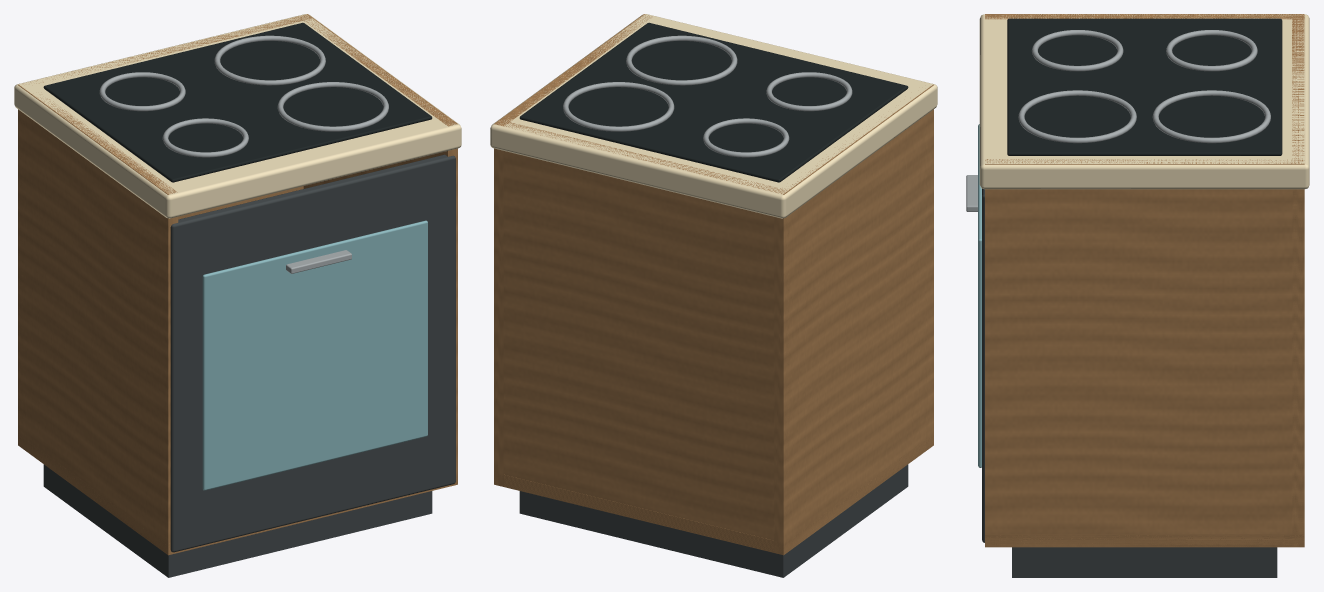
File: stove_fjord-091057ebc8f8.glb
The picture shows the model from 3 angles, left to right: view 1: azimuth 30°, elevation 25°; view 2: azimuth 150°, elevation 25°; view 3: azimuth 270°, elevation 25°; orthographic projection. The views are drawn at different scales.
Visible parts, largest first — view 1: surface_oak, surface_graphite, surface_glass, surface_black, surface_ivory, surface_steel; view 2: surface_oak, surface_black, surface_ivory, surface_graphite, surface_steel; view 3: surface_oak, surface_black, surface_ivory, surface_graphite, surface_steel, surface_glass.
Part boxes in pixels (x1=…): surface_oak: x1=18, y1=14, x2=457, y2=555; surface_graphite: x1=43, y1=154, x2=455, y2=577; surface_glass: x1=202, y1=220, x2=427, y2=490; surface_black: x1=43, y1=22, x2=432, y2=182; surface_ivory: x1=14, y1=14, x2=461, y2=218; surface_steel: x1=99, y1=35, x2=388, y2=273; surface_oak: x1=494, y1=14, x2=933, y2=555; surface_black: x1=519, y1=22, x2=908, y2=182; surface_ivory: x1=490, y1=14, x2=937, y2=218; surface_graphite: x1=519, y1=464, x2=908, y2=577; surface_steel: x1=563, y1=35, x2=852, y2=157; surface_oak: x1=985, y1=14, x2=1304, y2=547; surface_black: x1=1007, y1=18, x2=1282, y2=155; surface_ivory: x1=979, y1=14, x2=1309, y2=189; surface_graphite: x1=982, y1=188, x2=1277, y2=577; surface_steel: x1=966, y1=30, x2=1270, y2=211; surface_glass: x1=978, y1=124, x2=981, y2=467.
Size of the model in its own units: 0.704 by 0.9169 by 0.6663.
6 materials, 1 textured.
